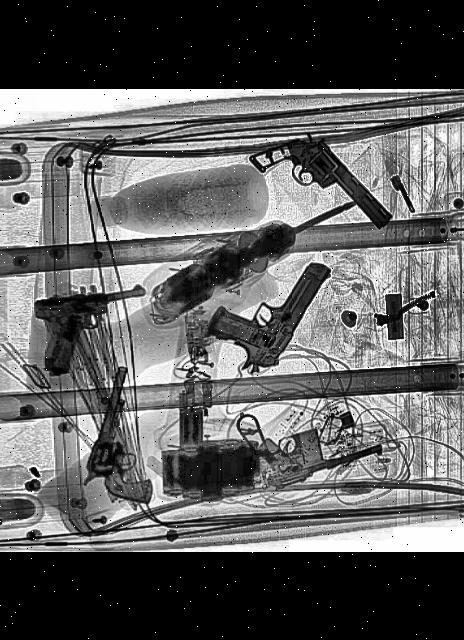Gun: (246, 122, 398, 255), (191, 240, 333, 380), (77, 366, 186, 506), (28, 284, 160, 376), (244, 412, 388, 494)
